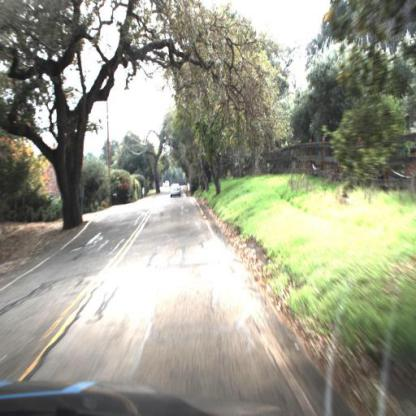car: (168, 180, 184, 201)
